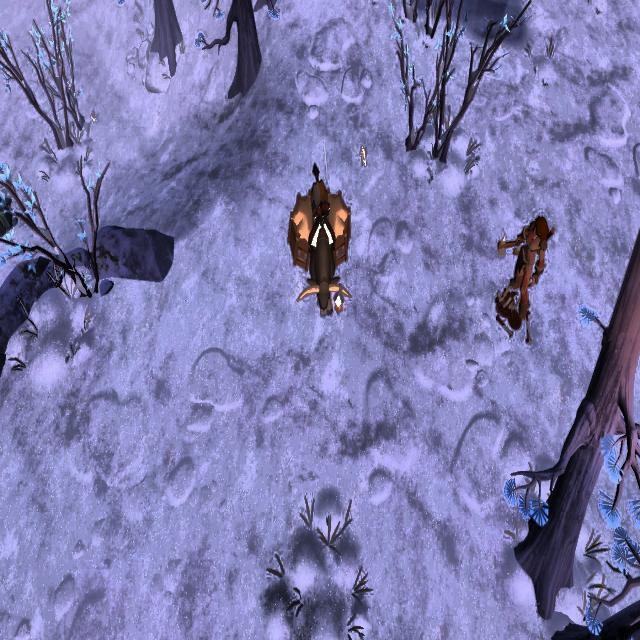enemy_factionKeeper: (492, 206, 550, 314)
